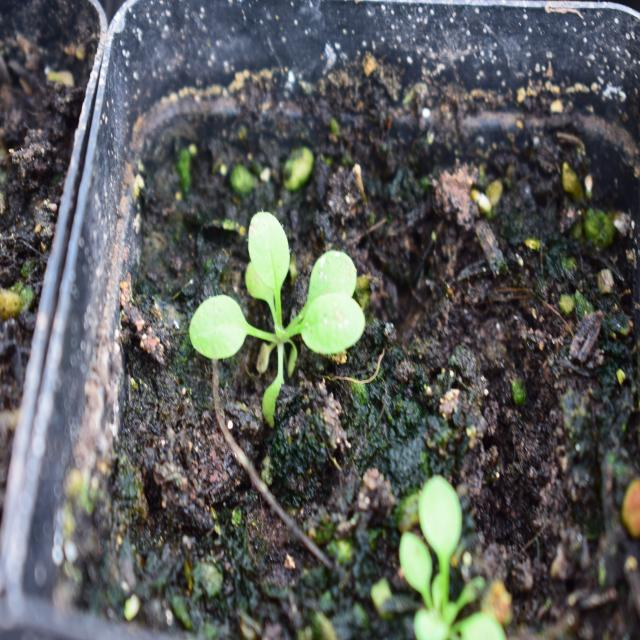Shepherd_Purse: (190, 211, 360, 385)
